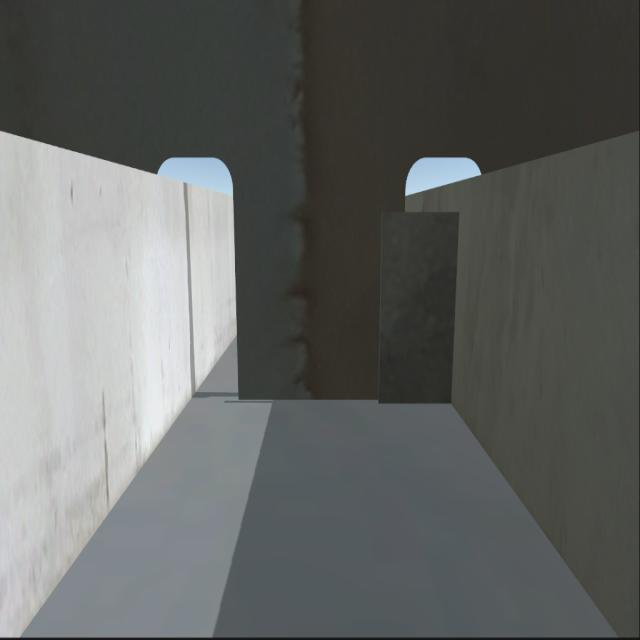fillet_yong_jeop_jang: (226, 394, 454, 406)
longi_yong_jeop_jang: (444, 222, 459, 400)
plate_CP01: (378, 220, 459, 398)
